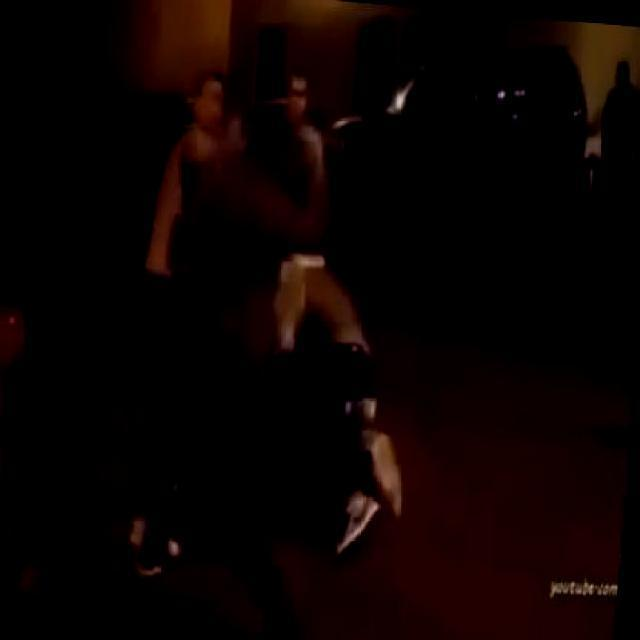fight: (188, 248, 412, 534), (150, 68, 341, 318)
